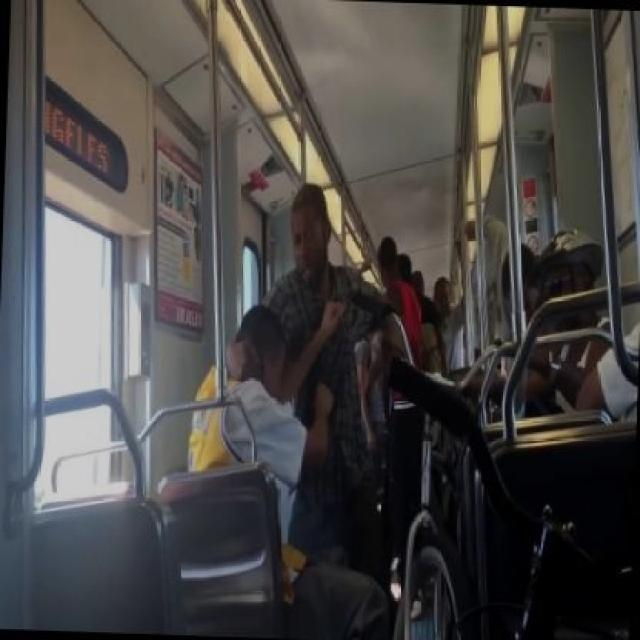fight: (163, 170, 451, 638)
